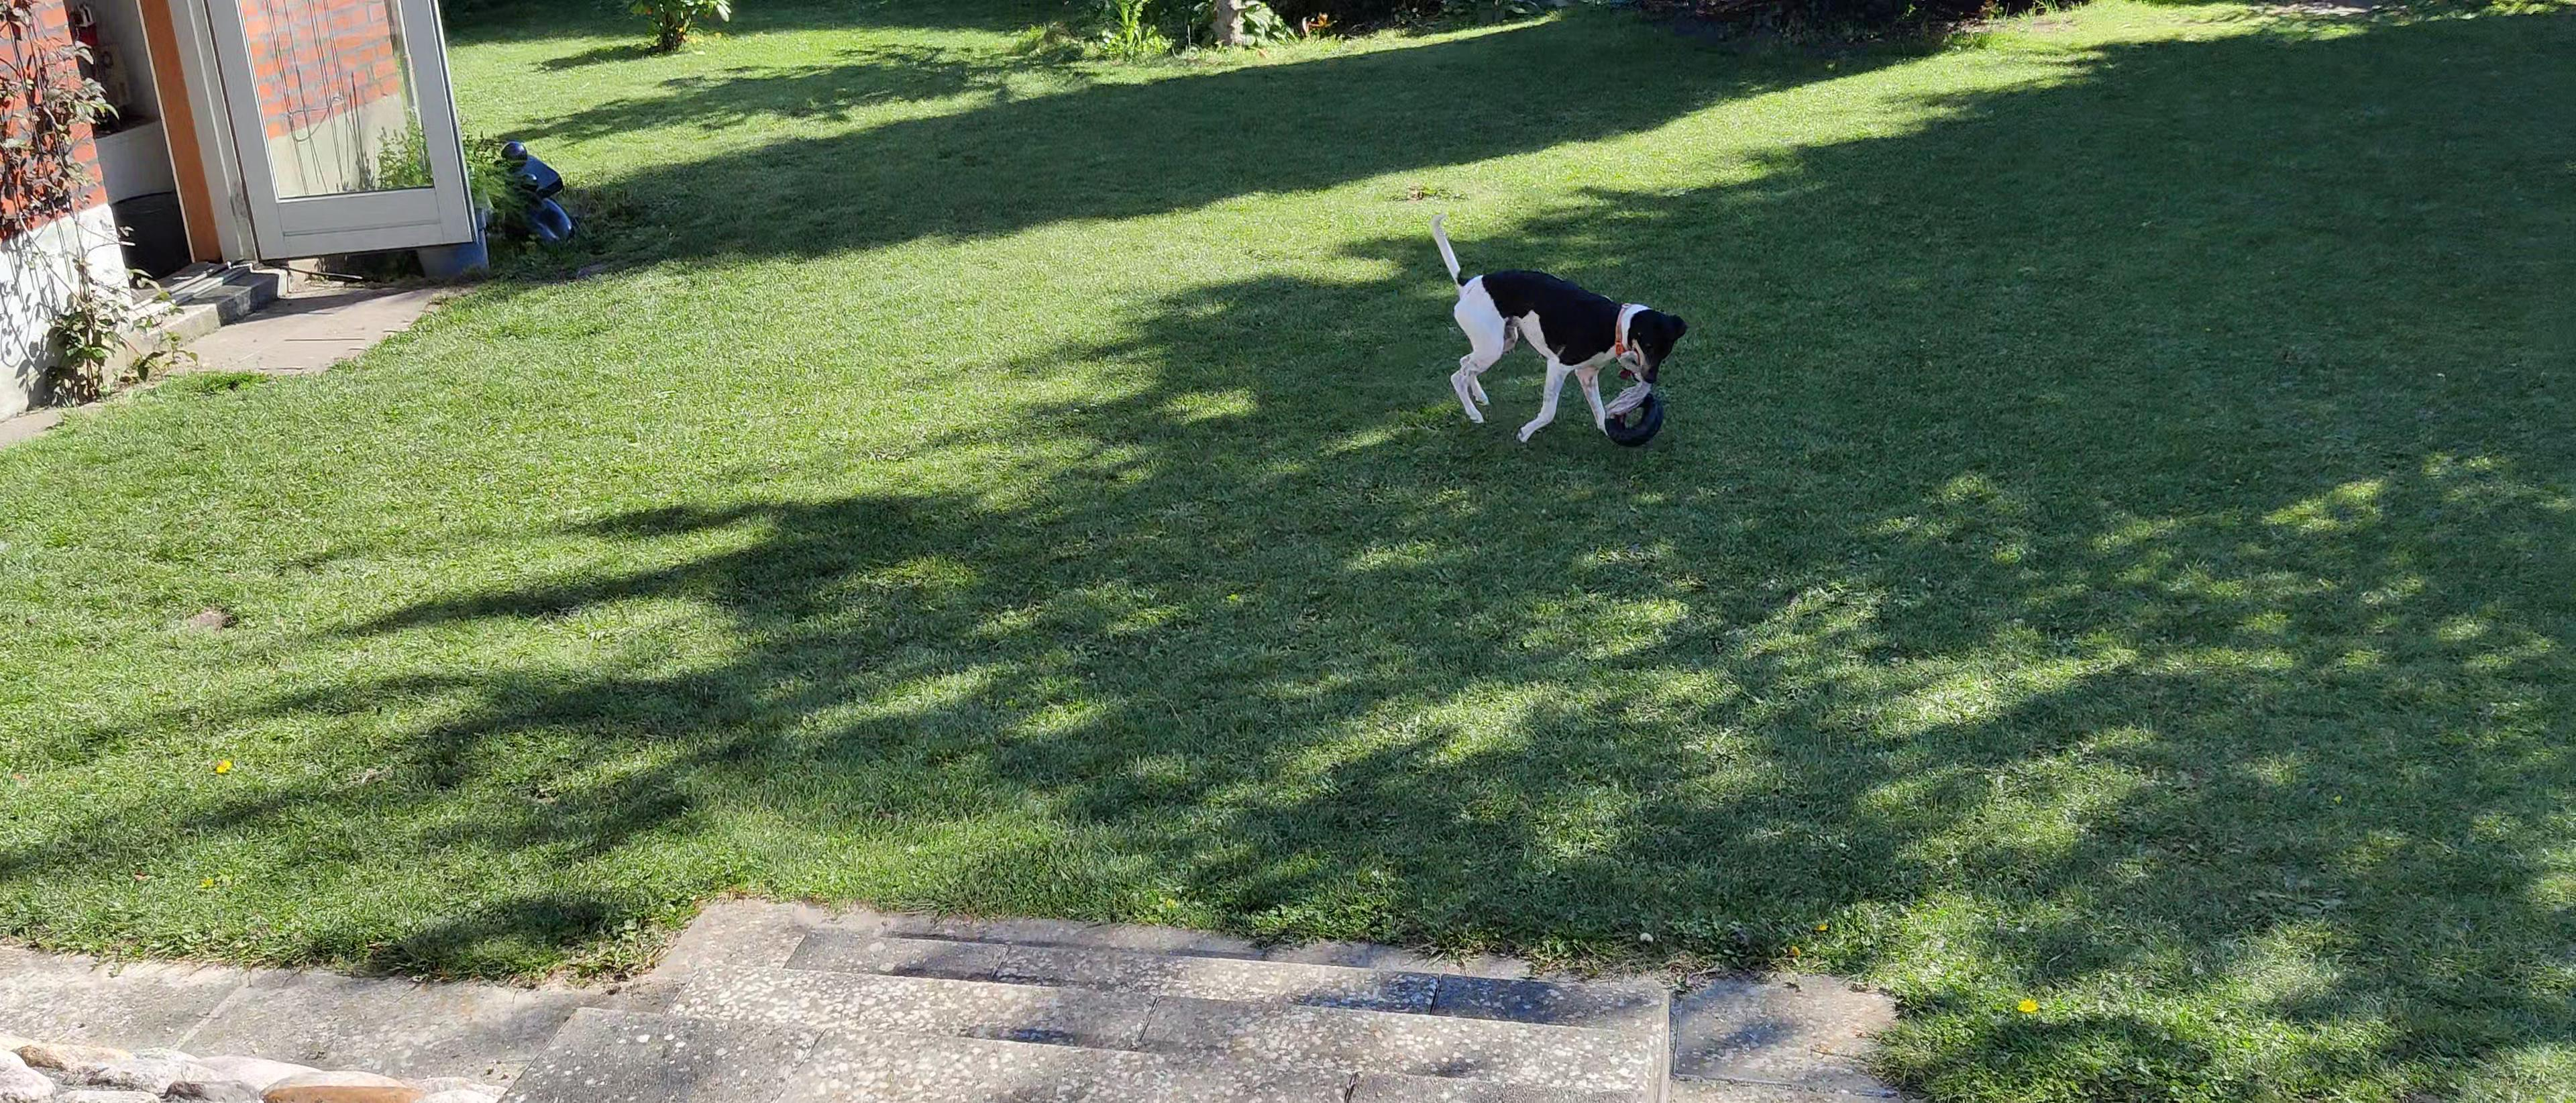Dog: (1423, 201, 1694, 455)
